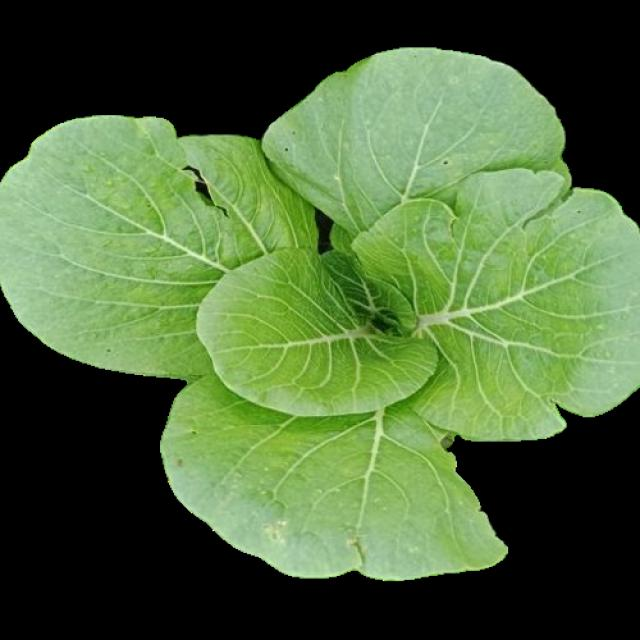mature: (1, 48, 639, 578)
unhealthy: (3, 115, 316, 375), (354, 165, 638, 442), (160, 379, 507, 571), (264, 46, 572, 236)
